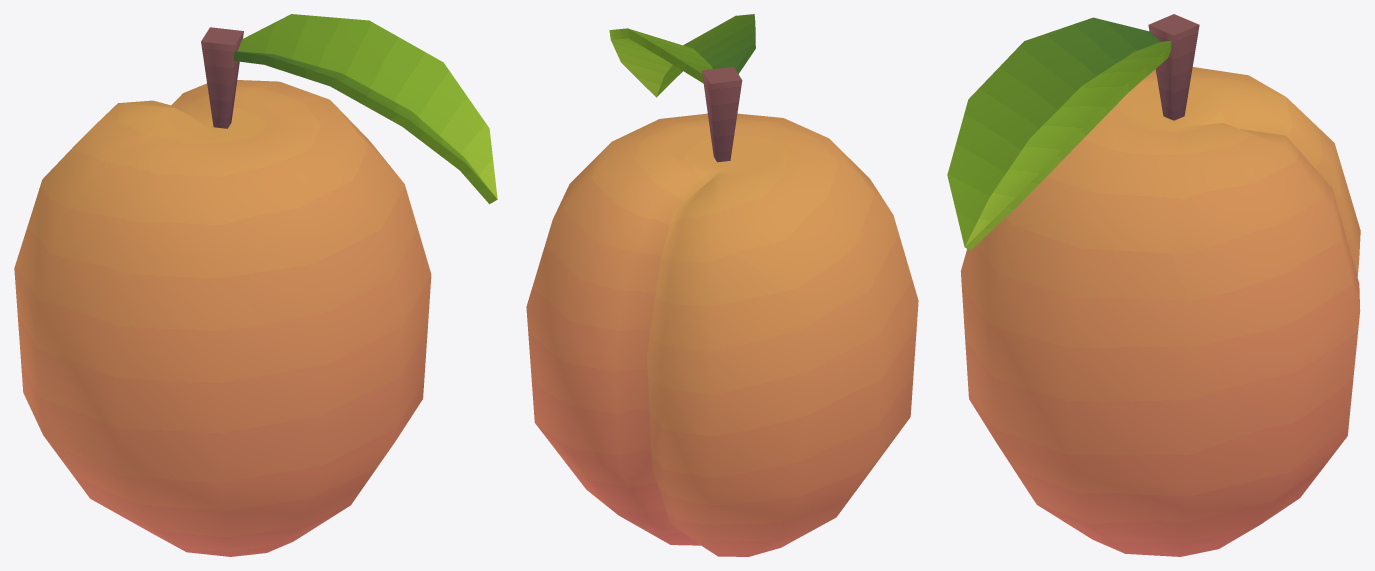
File: appercut.glb
3 renders of one model, left to right at view 1: azimuth 30°, elevation 25°; view 2: azimuth 150°, elevation 25°; view 3: azimuth 270°, elevation 25°, orthographic. The views are drawn at different scales.
Parts seen in each view (by area): view 1: mesh_apricot_01 - Default.001_0; view 2: mesh_apricot_01 - Default.001_0; view 3: mesh_apricot_01 - Default.001_0.
Boxes of the visible parts, x1,y1,x2,y2 form: mesh_apricot_01 - Default.001_0: (14, 14, 497, 556); mesh_apricot_01 - Default.001_0: (526, 14, 918, 556); mesh_apricot_01 - Default.001_0: (947, 14, 1360, 556).
Size of the model in its own units: 86.31 by 114 by 81.57.
Materials: 1 (1 with a texture image).
